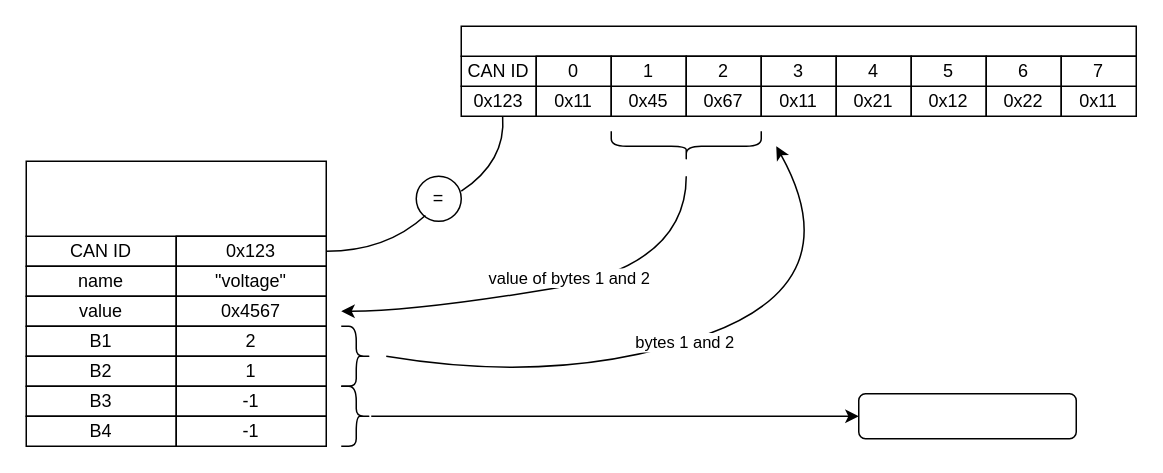
Image size: 1163x473. Some labels were removed from this diagram. Here are the shapes that lost their labels. From the top down, the centre of each, then its label:
the point at 798,40: CAN Frame
the point at 175,198: sensorBuffer[34]
the point at 966,415: message on 2 bytes -> bytes 3 and 4 unused
